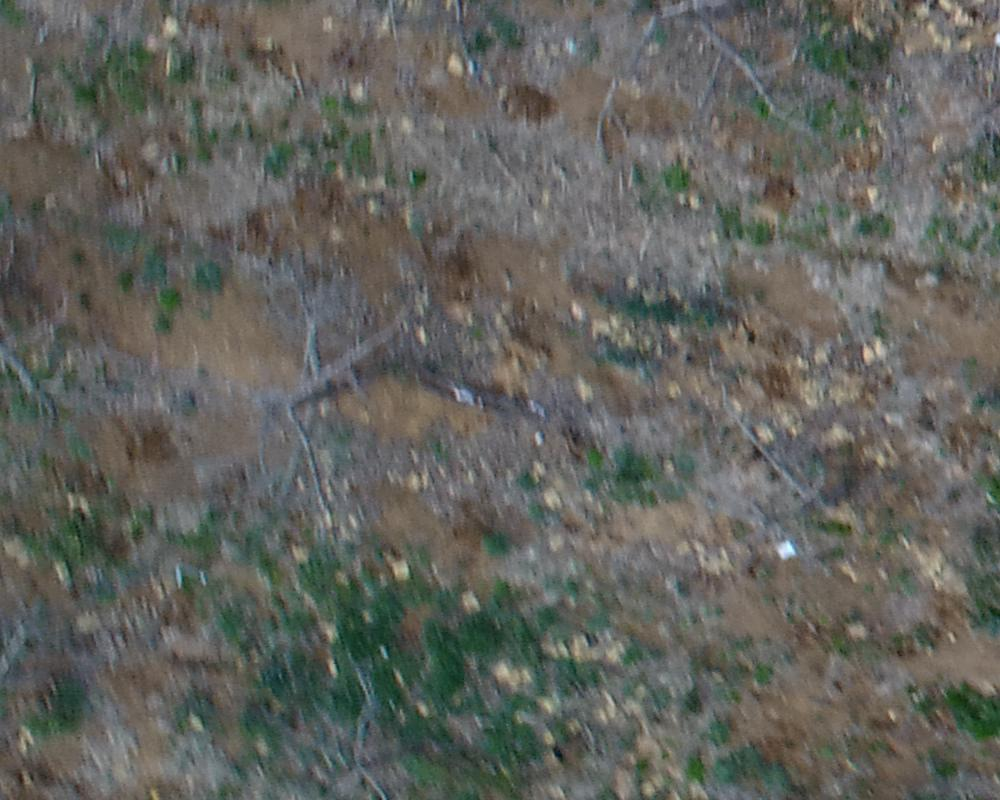apple: (545, 10, 827, 151), (898, 44, 990, 159)
